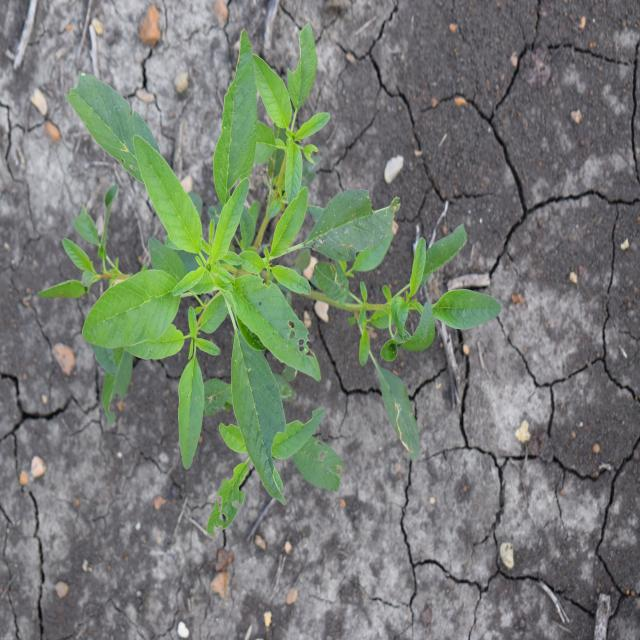Waterhemp: (35, 22, 504, 540)
